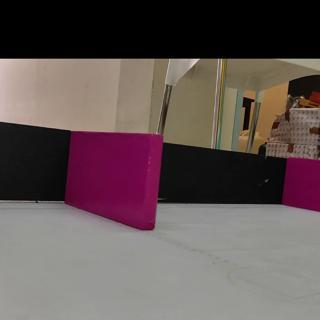xparking: (71, 135, 157, 224), (287, 159, 320, 208)
